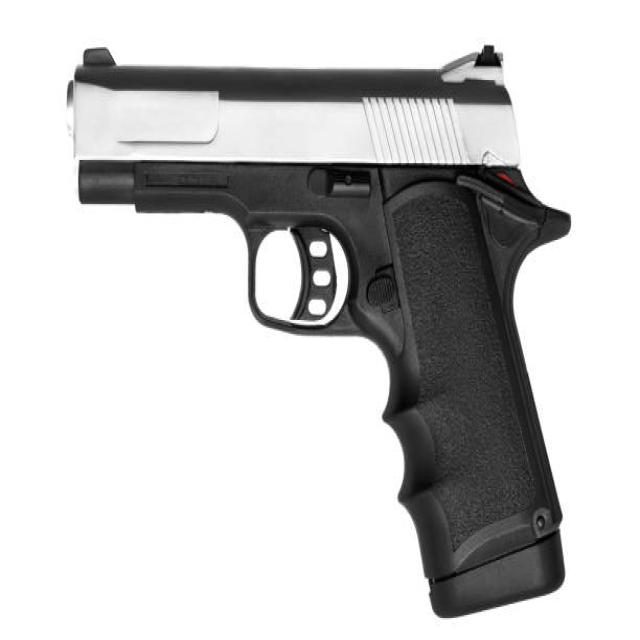pistol: (49, 27, 584, 627)
